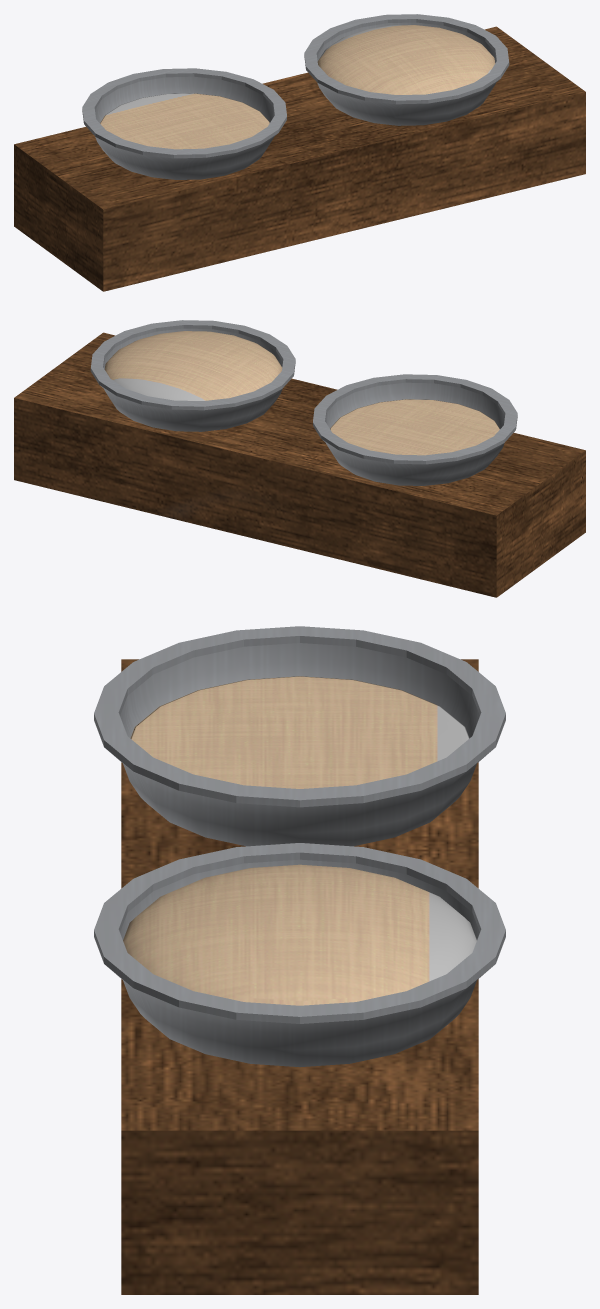
File: CatBowls.fbx
3 views of the same model, one above another, from view 1: azimuth 30°, elevation 25°; view 2: azimuth 150°, elevation 25°; view 3: azimuth 270°, elevation 25° (orthographic). The views are drawn at different scales.
Parts seen in each view (by area): view 1: CatFood; view 2: CatFood; view 3: CatFood.
Boxes of the visible parts, bbox=[...] form: CatFood: bbox=[14, 14, 585, 291]; CatFood: bbox=[14, 320, 585, 597]; CatFood: bbox=[94, 626, 505, 1294].
Size of the model in its own units: 176 by 44.5 by 65.18.
